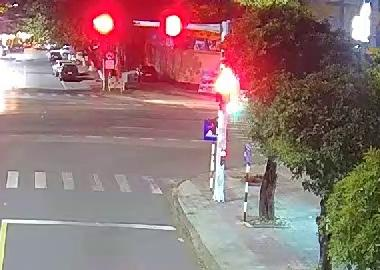red_light: (214, 60, 240, 115), (154, 12, 184, 40), (92, 12, 117, 35)
stop_line: (2, 215, 189, 233)
